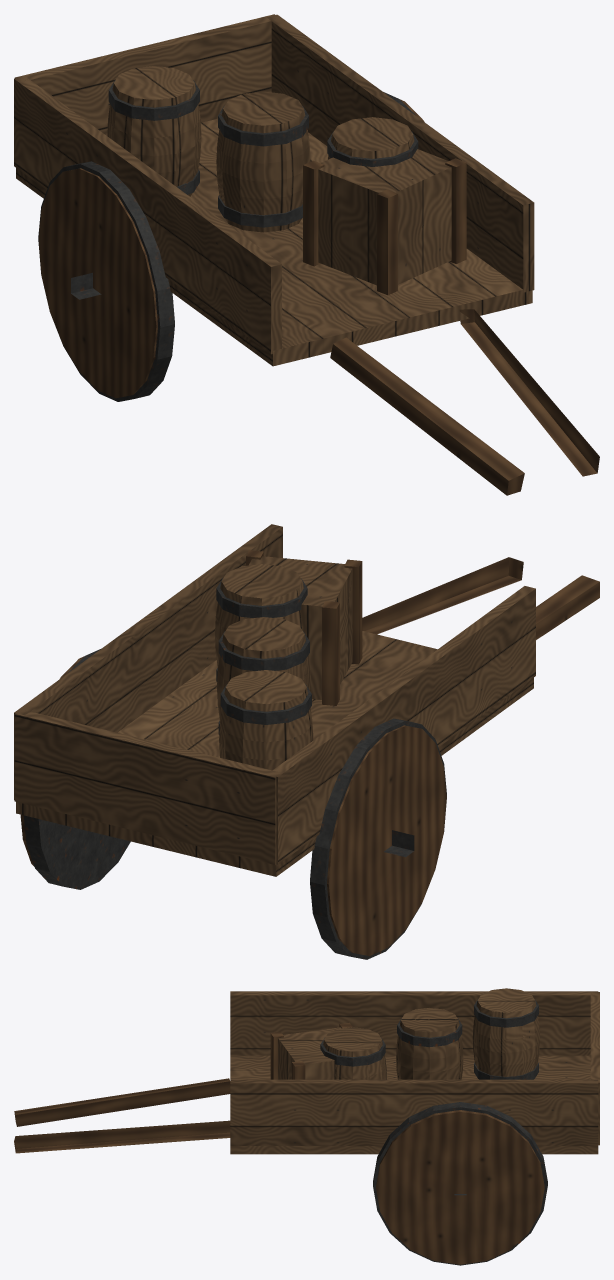
File: Cart.fbx
3 renders of one model, top to bottom at view 1: azimuth 30°, elevation 25°; view 2: azimuth 150°, elevation 25°; view 3: azimuth 270°, elevation 25°, orthographic. The views are drawn at different scales.
Visible parts, largest first — view 1: Cart; view 2: Cart; view 3: Cart.
Boxes of the visible parts, bbox=[...] form: Cart: bbox=[14, 14, 599, 495]; Cart: bbox=[14, 524, 599, 959]; Cart: bbox=[14, 988, 599, 1265].
Bounding box in the file's own units: 1.8 × 1.37 × 3.82.
